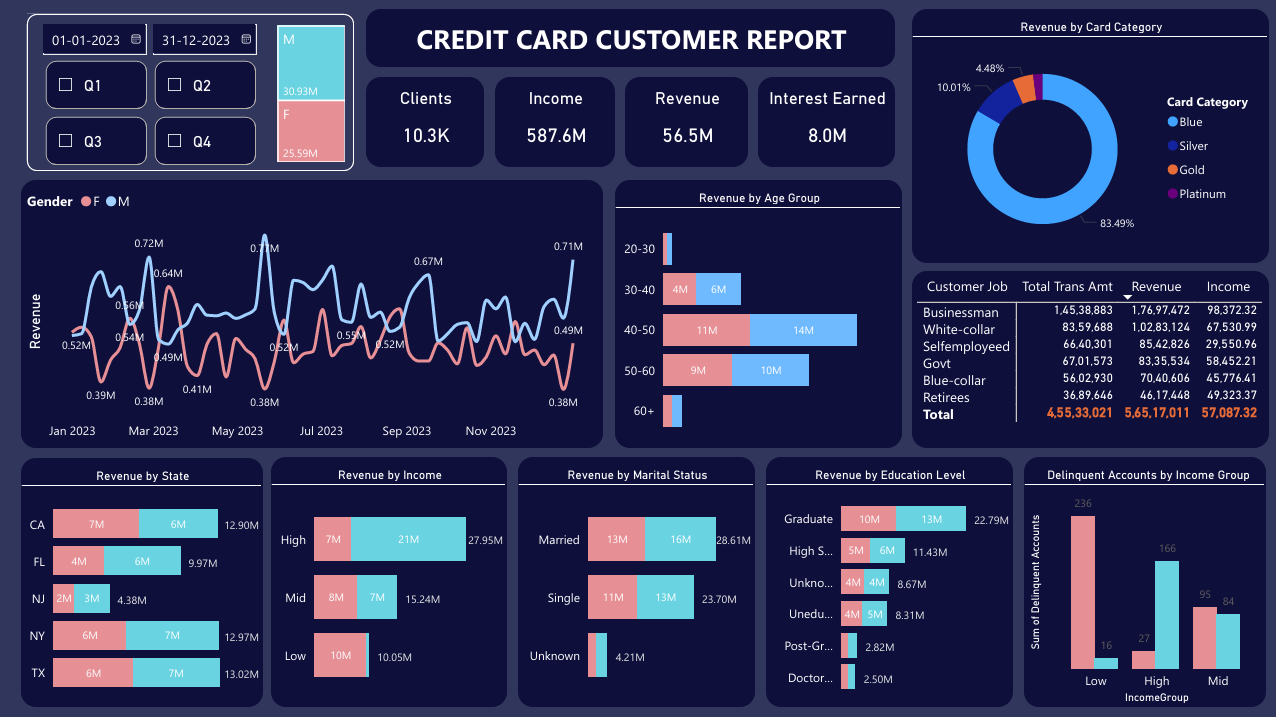

The dashboard page shown, as its layout file describes it:
{"tool":"powerbi","page":{"name":"Customer","canvas":[1280,720],"ordinal":0},"visuals":[{"type":"shape","box":[26.6,15,327.6,157.4],"z":0},{"type":"card","title":"Revenue","fields":{"Values":["Sum(Credit_card dataset.Revenue1)"]},"box":[625.1,77.6,122.7,90.3],"z":1000},{"type":"card","title":"Interest Earned","fields":{"Values":["Sum(Credit_card dataset.Interest_Earned)"]},"box":[758.2,77.6,136.6,90.3],"z":2000},{"type":"card","title":"Income","fields":{"Values":["Sum(Customer.Income)"]},"box":[495.4,77.6,119.2,90.3],"z":3000},{"type":"barChart","title":"Revenue by Age Group","fields":{"Category":["Customer.AgeGroup"],"Series":["Customer.Gender"],"Y":["Sum(Credit_card dataset.Revenue1)"]},"box":[614.7,180.6,287.1,268.6],"z":4000},{"type":"barChart","title":"Revenue by State","fields":{"Category":["Customer.state_cd"],"Series":["Customer.Gender"],"Y":["Sum(Credit_card dataset.Revenue1)"]},"box":[20.5,458.8,242.2,249.4],"z":5000},{"type":"barChart","title":"Revenue by Income","fields":{"Category":["Customer.IncomeGroup"],"Series":["Customer.Gender"],"Y":["Sum(Credit_card dataset.Revenue1)"]},"box":[271.1,457.8,236.1,250.6],"z":6000},{"type":"card","title":"Clients","fields":{"Values":["CountNonNull(Credit_card dataset.Client_Num)"]},"box":[365.8,77.6,118.1,90.3],"z":7000},{"type":"lineChart","title":"Revenue vs Gender","fields":{"Category":["Credit_card dataset.Week_Start_Date.Variation.Date Hierarchy.Year","Credit_card dataset.Week_Start_Date.Variation.Date Hierarchy.Quarter","Credit_card dataset.Week_Start_Date.Variation.Date Hierarchy.Month","Credit_card dataset.Week_Start_Date.Variation.Date Hierarchy.Day"],"Series":["Customer.Gender"],"Y":["Sum(Credit_card dataset.Revenue1)"]},"box":[20.8,180.6,582.3,268.6],"z":8000},{"type":"treemap","fields":{"Group":["Customer.Gender"],"Values":["Sum(Credit_card dataset.Revenue1)"]},"box":[273.2,22,76.4,145.9],"z":9000},{"type":"barChart","title":"Revenue by Marital Status ","fields":{"Category":["Customer.Marital_Status"],"Series":["Customer.Gender"],"Y":["Sum(Credit_card dataset.Revenue1)"]},"box":[518.1,457.8,237.3,250.6],"z":10000},{"type":"barChart","title":"Revenue by Education Level","fields":{"Category":["Customer.Education_Level"],"Series":["Customer.Gender"],"Y":["Sum(Credit_card dataset.Revenue1)"]},"box":[766.3,457.8,247,250.6],"z":11000},{"type":"pivotTable","fields":{"Rows":["Customer.Customer_Job"],"Values":["Sum(Credit_card dataset.Total_Trans_Amt)","Sum(Credit_card dataset.Revenue)","Avg(Customer.Income)"]},"box":[912,272.3,356.6,177.1],"z":13000},{"type":"donutChart","title":"Revenue by Card Category","fields":{"Category":["Credit_card dataset.Card_Category"],"Y":["Sum(Credit_card dataset.Revenue1)"]},"box":[912.2,10.4,356.5,253.5],"z":14000},{"type":"textbox","box":[365.8,10.4,529,57.9],"z":15000},{"type":"slicer","fields":{"Values":["Credit_card dataset.Week_Start_Date"]},"box":[30.1,10.4,243.1,48.6],"z":16000},{"type":"advancedSlicerVisual","fields":{"Values":["Credit_card dataset.Qtr"]},"box":[41,56.6,221.7,115.7],"z":17000},{"type":"clusteredColumnChart","title":"Delinquent Accounts by Income Group","fields":{"Category":["Customer.IncomeGroup"],"Series":["Customer.Gender"],"Y":["Sum(Credit_card dataset.Delinquent_Acc)"]},"box":[1024.1,457.8,242.2,250.6],"z":18000}]}

Visuals, with their boxes in screenshot pixels (x1, y1, x2, y2), scaled from the page's 1280x720 canvas onto the 1276x717 screenshot:
shape: [x1=27, y1=15, x2=353, y2=172]
"Revenue" card: [x1=623, y1=77, x2=745, y2=167]
"Interest Earned" card: [x1=756, y1=77, x2=892, y2=167]
"Income" card: [x1=494, y1=77, x2=613, y2=167]
"Revenue by Age Group" barChart: [x1=613, y1=180, x2=899, y2=447]
"Revenue by State" barChart: [x1=20, y1=457, x2=262, y2=705]
"Revenue by Income" barChart: [x1=270, y1=456, x2=506, y2=705]
"Clients" card: [x1=365, y1=77, x2=482, y2=167]
"Revenue vs Gender" lineChart: [x1=21, y1=180, x2=601, y2=447]
treemap - Customer.Gender x Sum(Credit_card dataset.Revenue1): [x1=272, y1=22, x2=349, y2=167]
"Revenue by Marital Status " barChart: [x1=516, y1=456, x2=753, y2=705]
"Revenue by Education Level" barChart: [x1=764, y1=456, x2=1010, y2=705]
pivotTable - Customer.Customer_Job x Sum(Credit_card dataset.Total_Trans_Amt): [x1=909, y1=271, x2=1265, y2=448]
"Revenue by Card Category" donutChart: [x1=909, y1=10, x2=1265, y2=263]
textbox: [x1=365, y1=10, x2=892, y2=68]
slicer - Credit_card dataset.Week_Start_Date: [x1=30, y1=10, x2=272, y2=59]
advancedSlicerVisual - Credit_card dataset.Qtr: [x1=41, y1=56, x2=262, y2=172]
"Delinquent Accounts by Income Group" clusteredColumnChart: [x1=1021, y1=456, x2=1262, y2=705]
